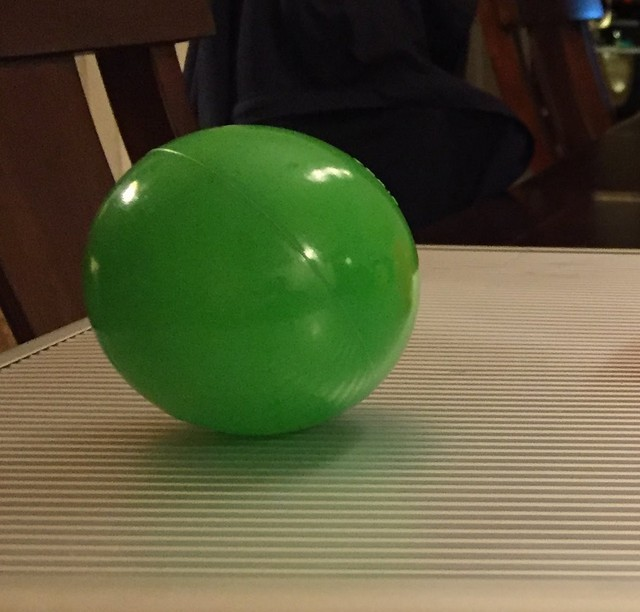Ball: (83, 127, 420, 436)
